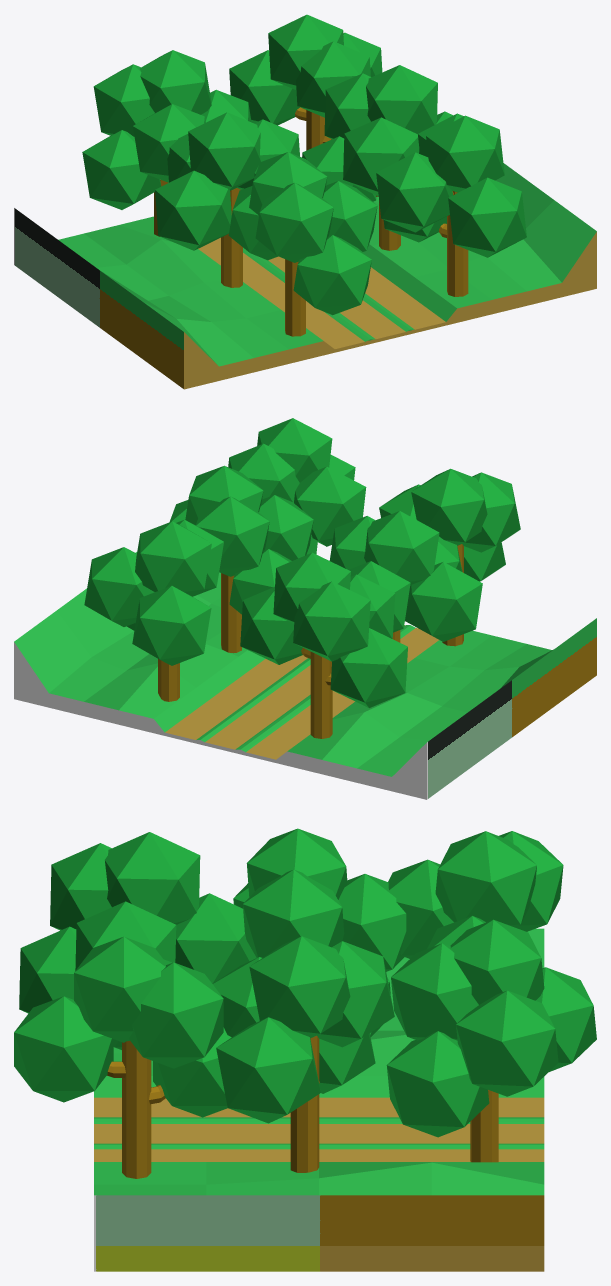
File: Forest.glb
3 renders of one model, top to bottom at view 1: azimuth 30°, elevation 25°; view 2: azimuth 150°, elevation 25°; view 3: azimuth 270°, elevation 25°, orthographic. The views are drawn at different scales.
Parts seen in each view (by area): view 1: Cube, Cylinder.005, Cylinder, Cylinder.003, Cylinder.004, Cylinder.001, Cylinder.002; view 2: Cube, Cylinder.003, Cylinder.002, Cylinder.001, Cylinder.004, Cylinder.005, Cylinder; view 3: Cube, Cylinder.002, Cylinder, Cylinder.001, Cylinder.005, Cylinder.004, Cylinder.003.
Part boxes in pixels (x1,y1,x2,y2): Cube: (14,163,596,389); Cylinder.005: (228,152,377,336); Cylinder: (376,113,526,296); Cylinder.003: (82,50,251,236); Cylinder.004: (155,112,299,287); Cylinder.001: (302,65,452,250); Cylinder.002: (229,14,382,150); Cube: (14,552,596,799); Cylinder.003: (240,552,407,738); Cylinder.002: (84,519,223,701); Cylinder.001: (169,465,313,653); Cylinder.004: (329,511,482,642); Cylinder.005: (379,468,520,646); Cylinder: (228,418,366,554); Cube: (94,928,544,1271); Cylinder.002: (386,919,596,1162); Cylinder: (14,936,231,1178); Cylinder.001: (212,936,394,1172); Cylinder.005: (19,832,256,1013); Cylinder.004: (233,828,406,1036); Cylinder.003: (388,831,563,958).
Bounding box in the file's own units: 28.59 × 13.09 × 26.4.
Materials: 1 (1 with a texture image).
